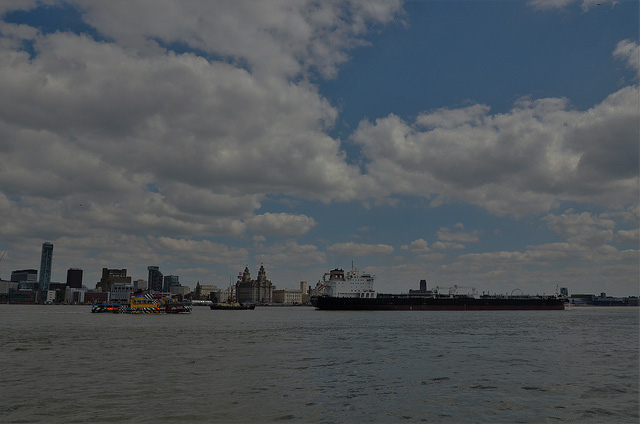LNG_ship: (310, 265, 568, 314)
boat: (83, 290, 193, 313)
tug_boat: (212, 290, 258, 311)
